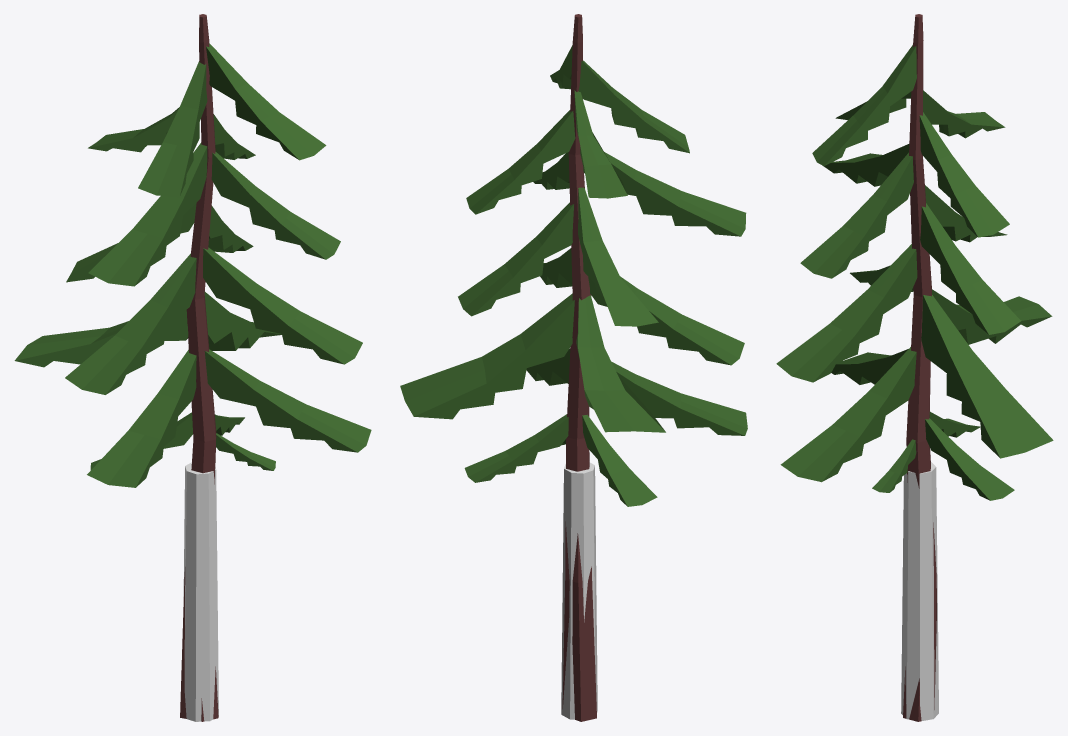
Rendered from floresta_tree_pine_hero.glb.
3 renders of one model, left to right at view 1: azimuth 30°, elevation 25°; view 2: azimuth 150°, elevation 25°; view 3: azimuth 270°, elevation 25°, orthographic.
Visible parts, largest first — view 1: Pine hero f, Colisao; view 2: Pine hero f, Colisao; view 3: Pine hero f, Colisao.
Boxes of the visible parts, x1=… form: Pine hero f: x1=14, y1=14, x2=371, y2=721; Colisao: x1=183, y1=462, x2=218, y2=721; Pine hero f: x1=400, y1=14, x2=747, y2=721; Colisao: x1=561, y1=462, x2=597, y2=719; Pine hero f: x1=776, y1=14, x2=1053, y2=721; Colisao: x1=901, y1=462, x2=938, y2=720.
Size of the model in its own units: 11.74 by 27.57 by 9.93.
